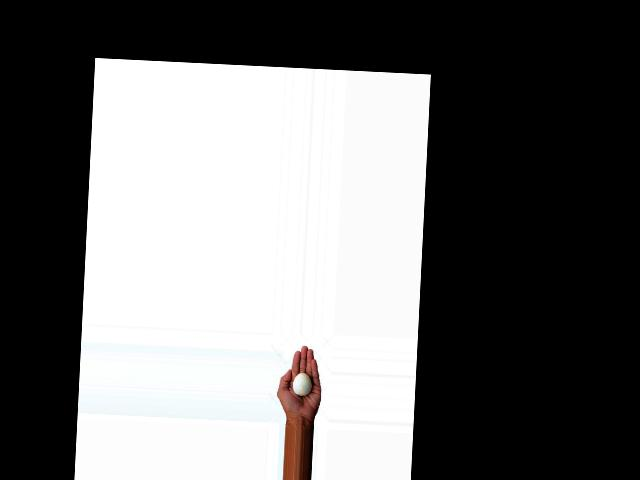egg: (292, 371, 312, 396)
